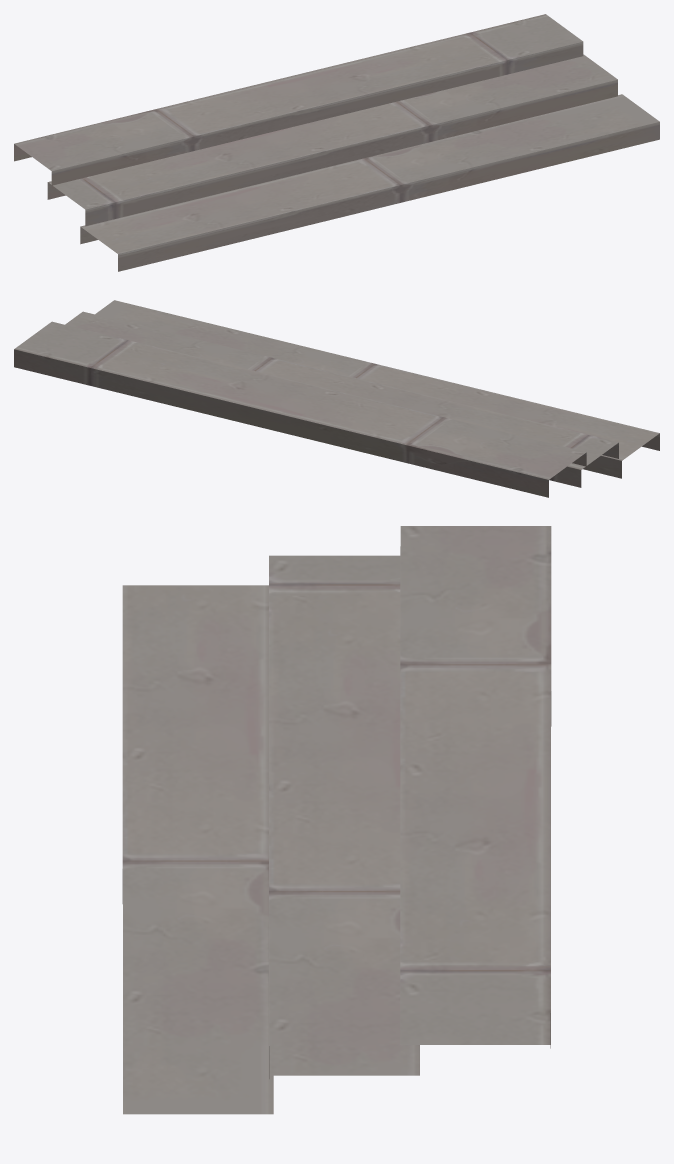
File: scene_luoliante_tizi_001.FBX
3 views of the same model, one above another, from view 1: azimuth 30°, elevation 25°; view 2: azimuth 150°, elevation 25°; view 3: azimuth 270°, elevation 25° (orthographic). The views are drawn at different scales.
Visible parts, largest first — view 1: scene_luoliante_tizi_001; view 2: scene_luoliante_tizi_001; view 3: scene_luoliante_tizi_001.
Boxes of the visible parts, x1=… form: scene_luoliante_tizi_001: x1=14, y1=14, x2=659, y2=271; scene_luoliante_tizi_001: x1=14, y1=300, x2=659, y2=497; scene_luoliante_tizi_001: x1=122, y1=526, x2=551, y2=1114.
Size of the model in its own units: 232 by 20.02 by 79.37.
Materials: 1 (1 with a texture image).
